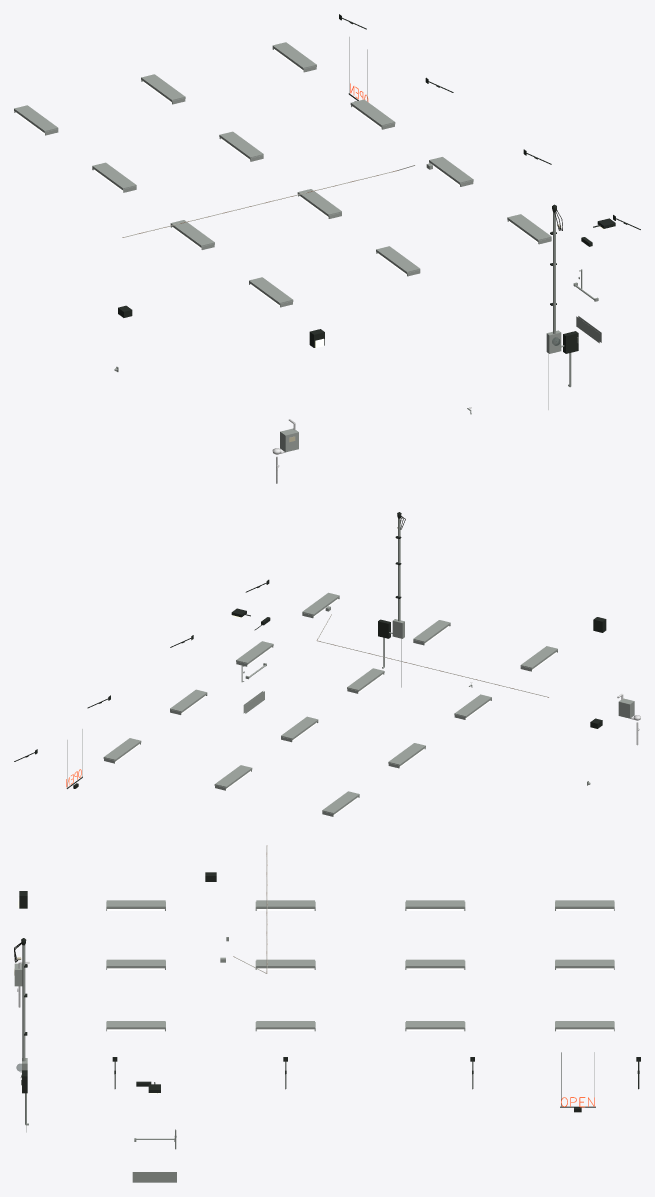
Rendered from SM_Town_Laundry_Fixtures.glb.
The picture shows the model from 3 angles, top to bottom: view 1: azimuth 30°, elevation 25°; view 2: azimuth 150°, elevation 25°; view 3: azimuth 270°, elevation 25°; orthographic projection. The views are drawn at different scales.
Parts seen in each view (by area): view 1: SM_Town_Laundry_Fixtures; view 2: SM_Town_Laundry_Fixtures; view 3: SM_Town_Laundry_Fixtures.
Boxes of the visible parts, x1=… form: SM_Town_Laundry_Fixtures: x1=14, y1=14, x2=640, y2=483; SM_Town_Laundry_Fixtures: x1=14, y1=512, x2=640, y2=816; SM_Town_Laundry_Fixtures: x1=14, y1=845, x2=640, y2=1182.
Size of the model in its own units: 11.09 by 4.7 by 13.41.
12 materials, 3 textured.
